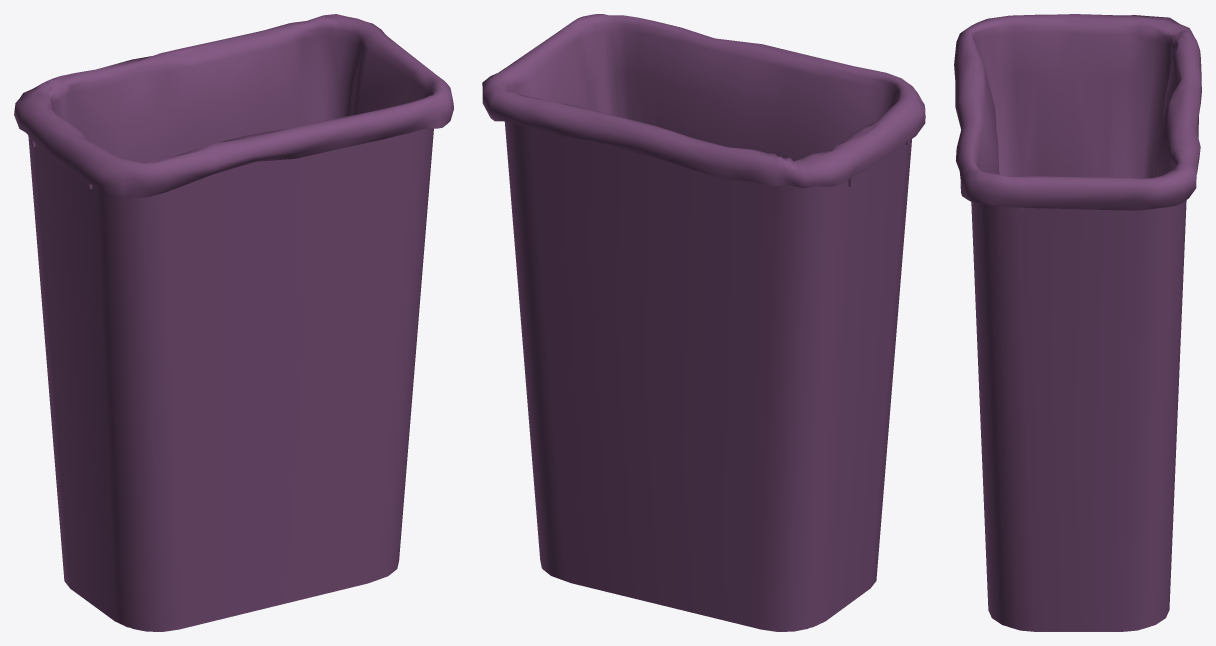
Rendered from Disposer.fbx.
3 views of the same model, side by side, from view 1: azimuth 30°, elevation 25°; view 2: azimuth 150°, elevation 25°; view 3: azimuth 270°, elevation 25° (orthographic). The views are drawn at different scales.
Parts seen in each view (by area): view 1: DisposableCanister; view 2: DisposableCanister; view 3: DisposableCanister.
Boxes of the visible parts, x1,y1,x2,y2 form: DisposableCanister: (14,14,453,631); DisposableCanister: (482,14,925,631); DisposableCanister: (954,14,1201,631).
Size of the model in its own units: 77.98 by 100 by 47.19.
